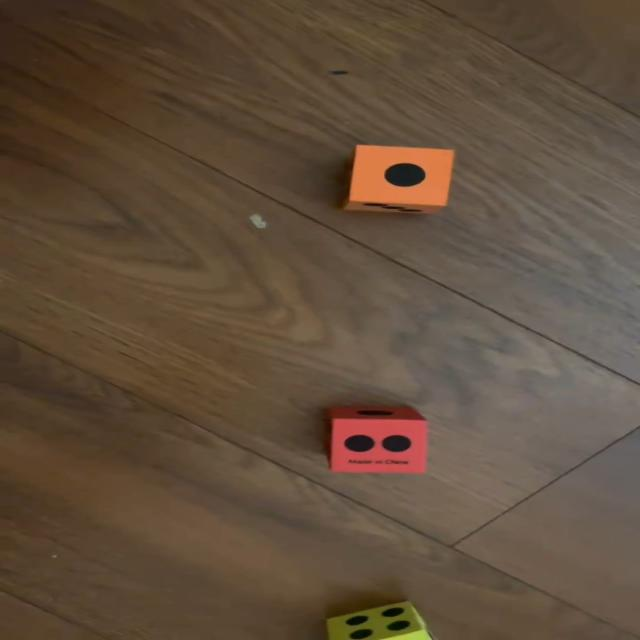red_block: (329, 404, 425, 476)
